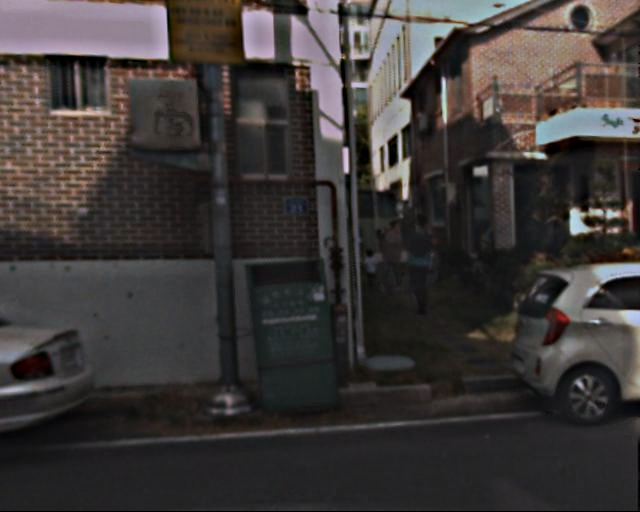person: (402, 213, 444, 320), (376, 222, 405, 299), (362, 249, 379, 291)
